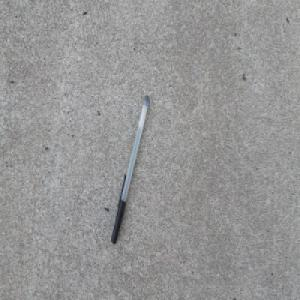Pen: (110, 93, 150, 245)
